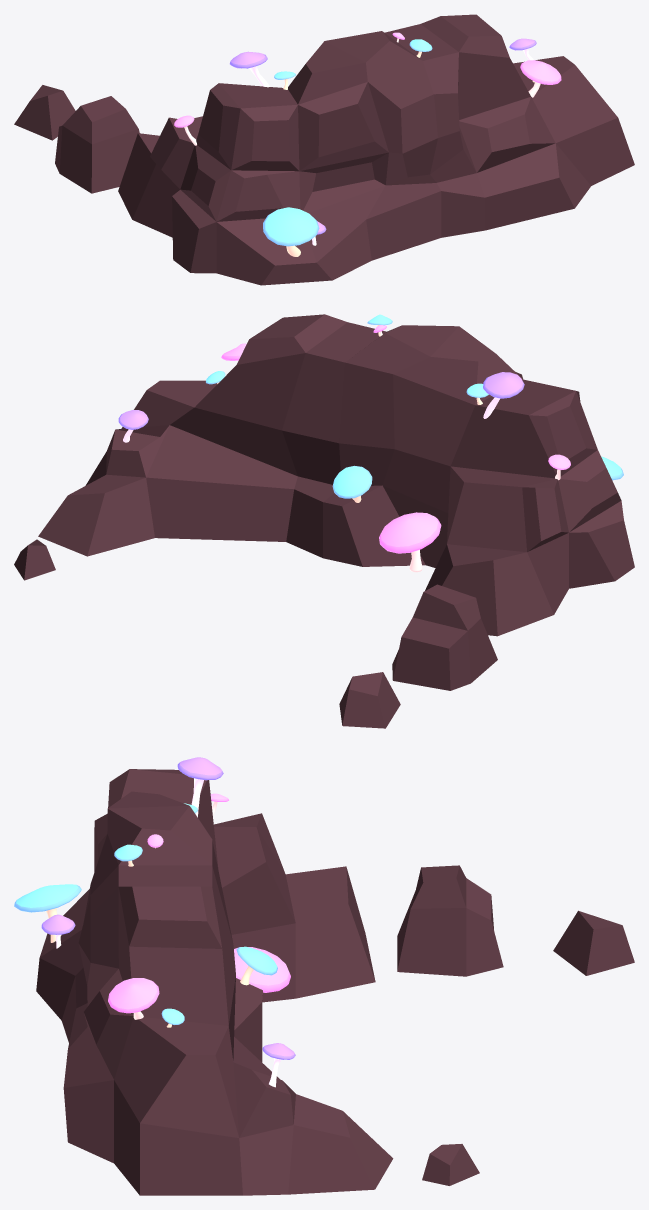
The model's file is ruína_cogu_01.fbx.
3 renders of one model, top to bottom at view 1: azimuth 30°, elevation 25°; view 2: azimuth 150°, elevation 25°; view 3: azimuth 270°, elevation 25°, orthographic. The views are drawn at different scales.
Parts seen in each view (by area): view 1: ruína_cogu_01; view 2: ruína_cogu_01; view 3: ruína_cogu_01.
Part boxes in pixels (left/top/right/bottom): ruína_cogu_01: left=14, top=14, right=634, bottom=285; ruína_cogu_01: left=14, top=314, right=634, bottom=728; ruína_cogu_01: left=14, top=757, right=634, bottom=1195.
Bounding box in the file's own units: 1832 × 713 × 1801.
